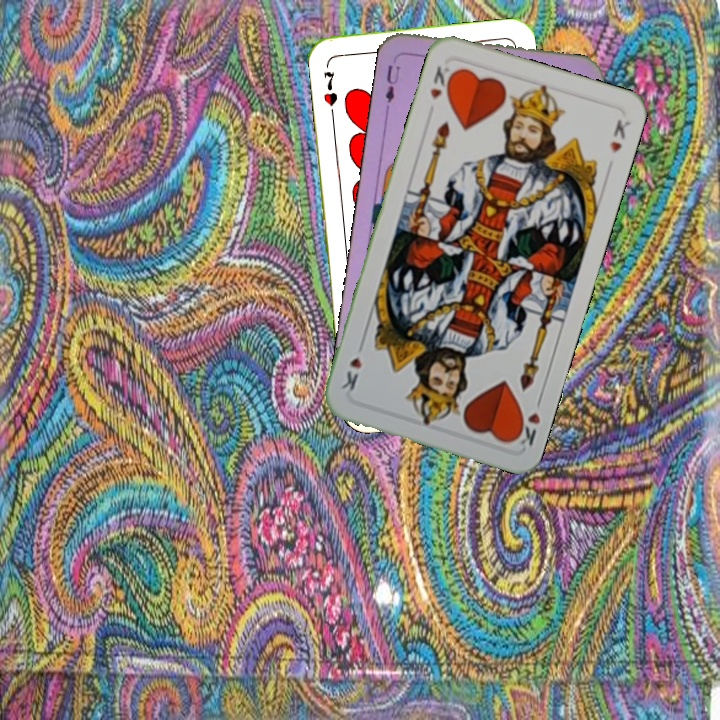EU: (381, 53, 403, 105)
H7: (319, 67, 340, 109)
HK: (509, 392, 545, 449), (426, 62, 458, 102)
